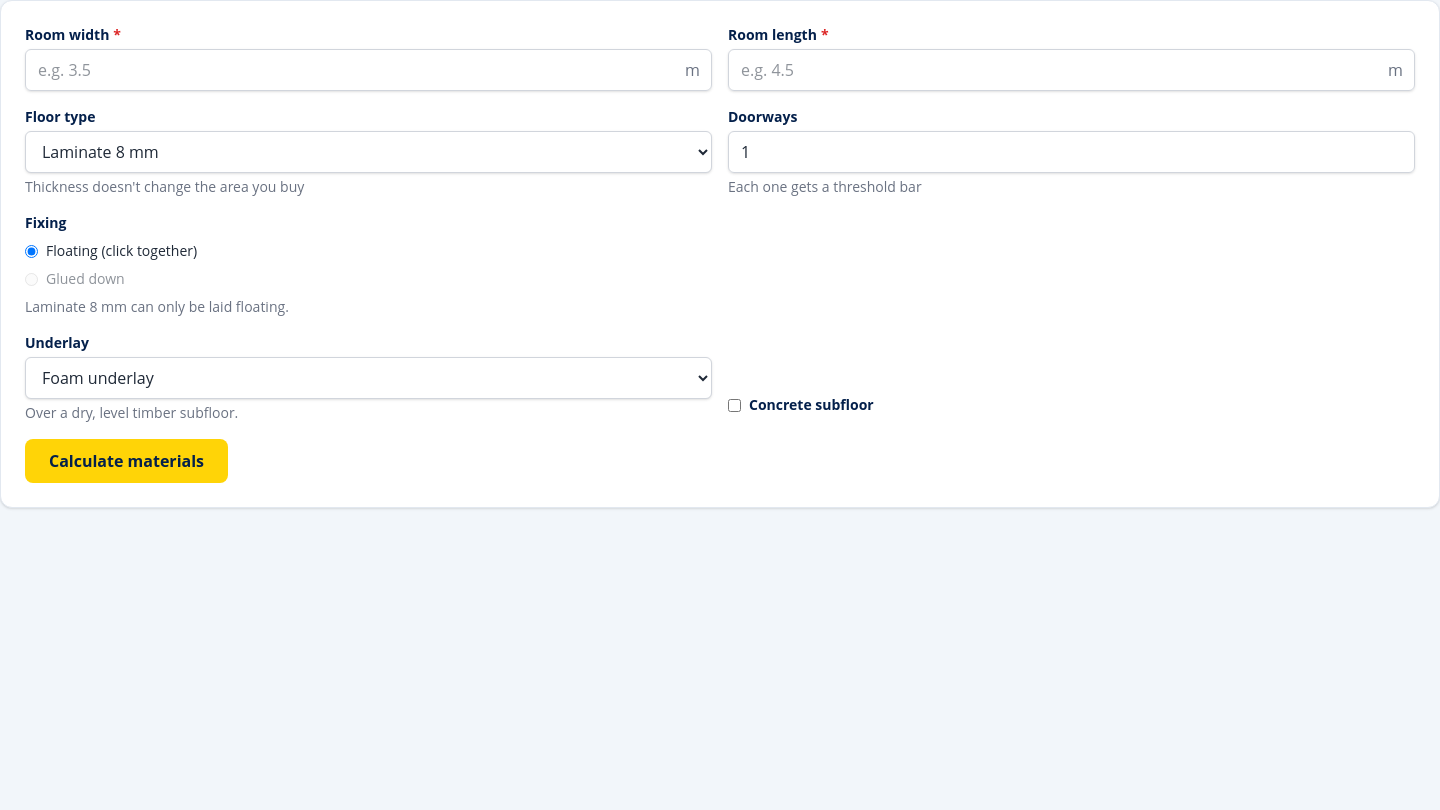
FlooringCalculator › glue-down is only offered where the trade allows it › can be selected for engineered wood, which then drops the underlay and adds adhesive
Select "Engineered wood 14 mm" in the dropdown labelled "Floor type". click: (368, 152)
box: left=25, top=131, right=712, bottom=173
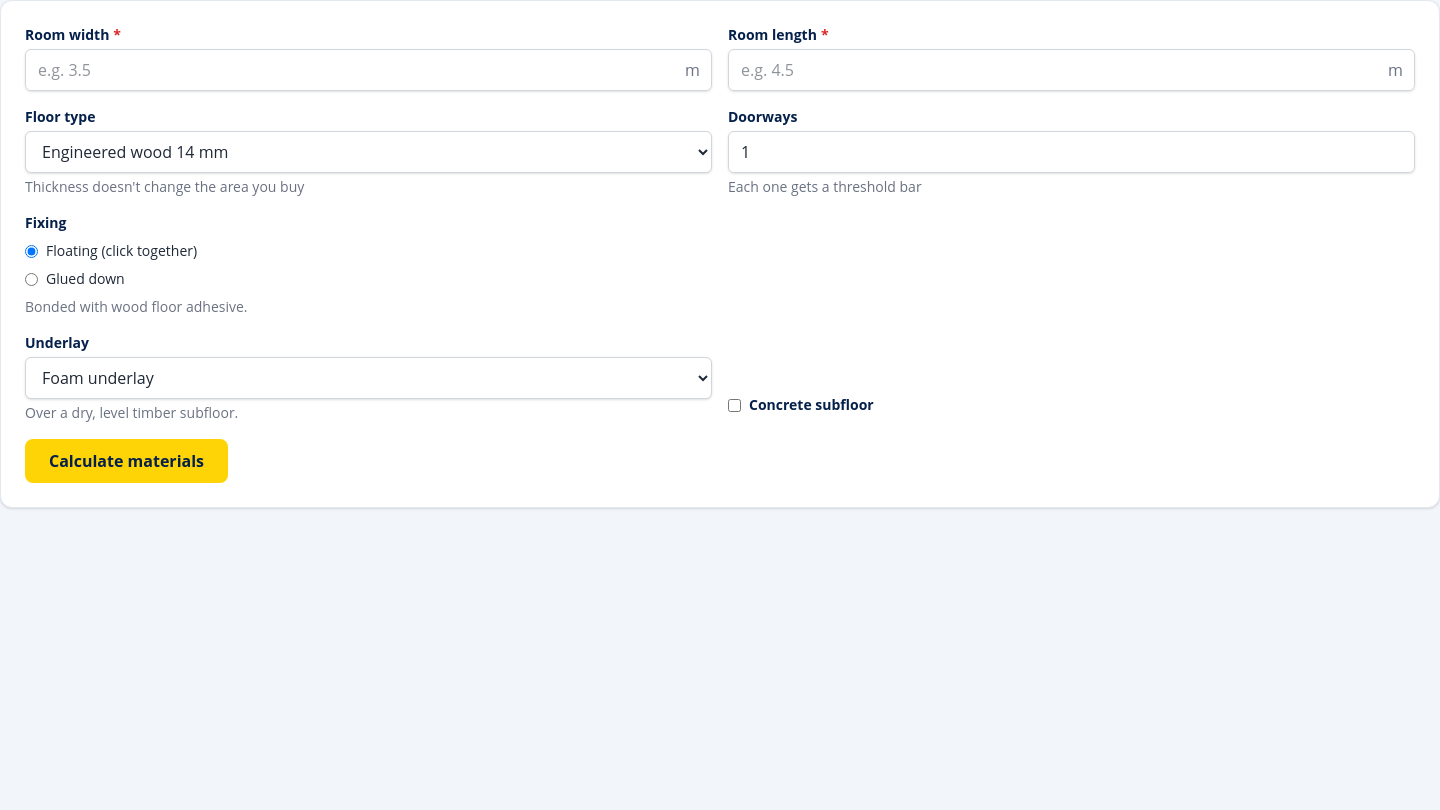
Now the radio button labelled "Glued down" is enabled
Click the radio button labelled "Glued down". click: (32, 279)
box: left=25, top=272, right=38, bottom=286
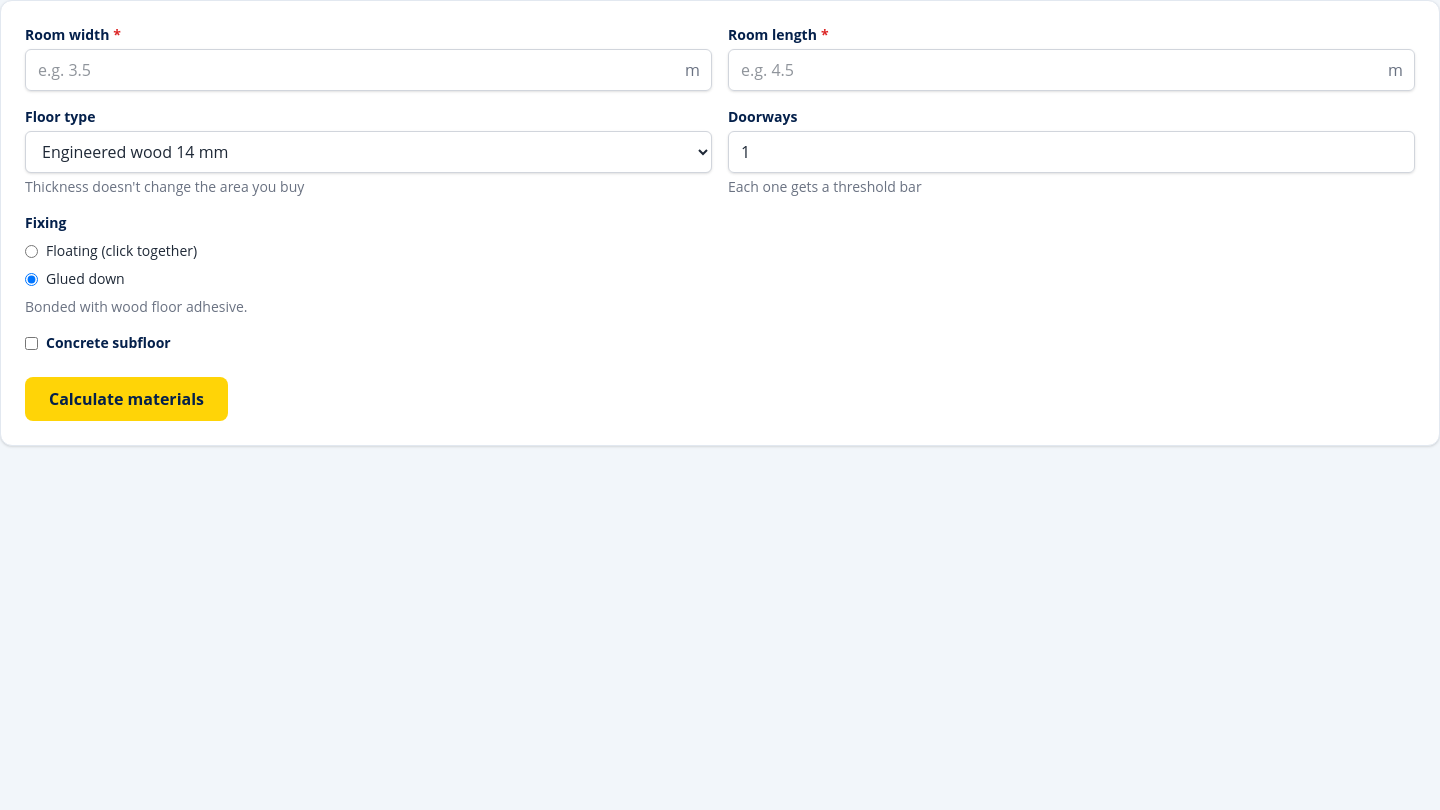
Now the label labelled "Underlay" is gone
Type "3.5" into the number field labelled "Room width*". click: (368, 70)
box: left=25, top=49, right=712, bottom=91
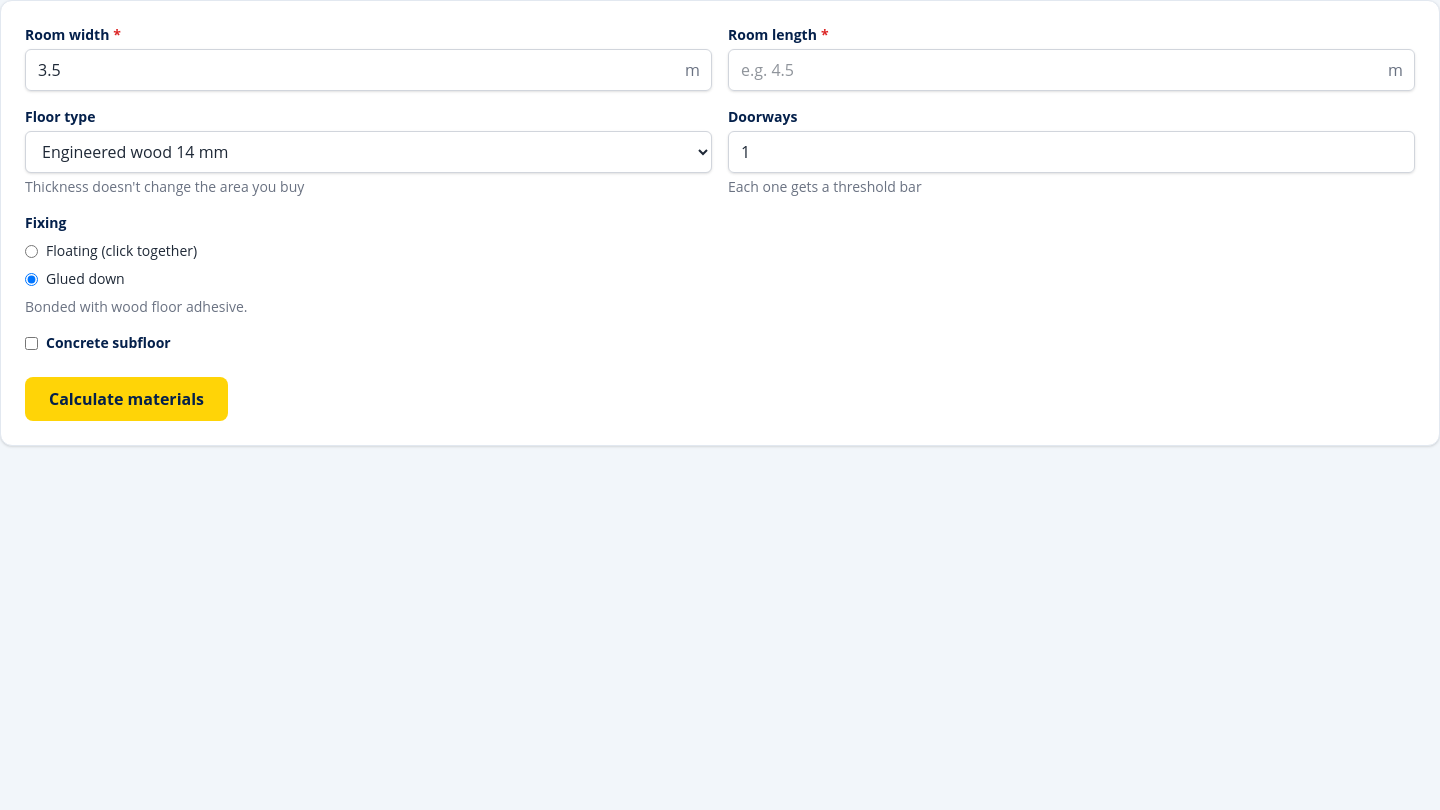
Type "4.5" into the number field labelled "Room length*". click: (1072, 70)
box: left=728, top=49, right=1415, bottom=91
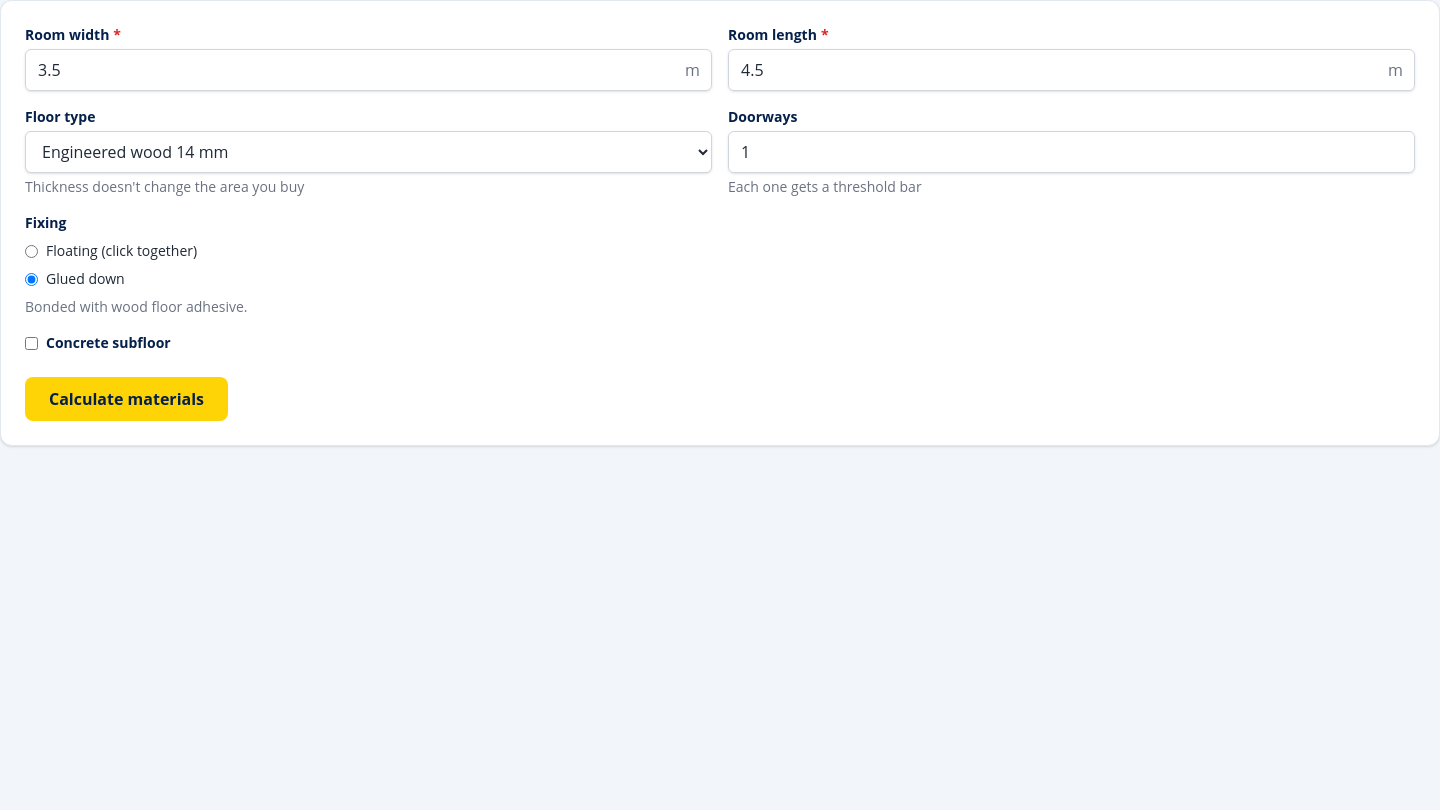
Click the button "Calculate materials". click: (126, 399)
box: left=25, top=377, right=228, bottom=421
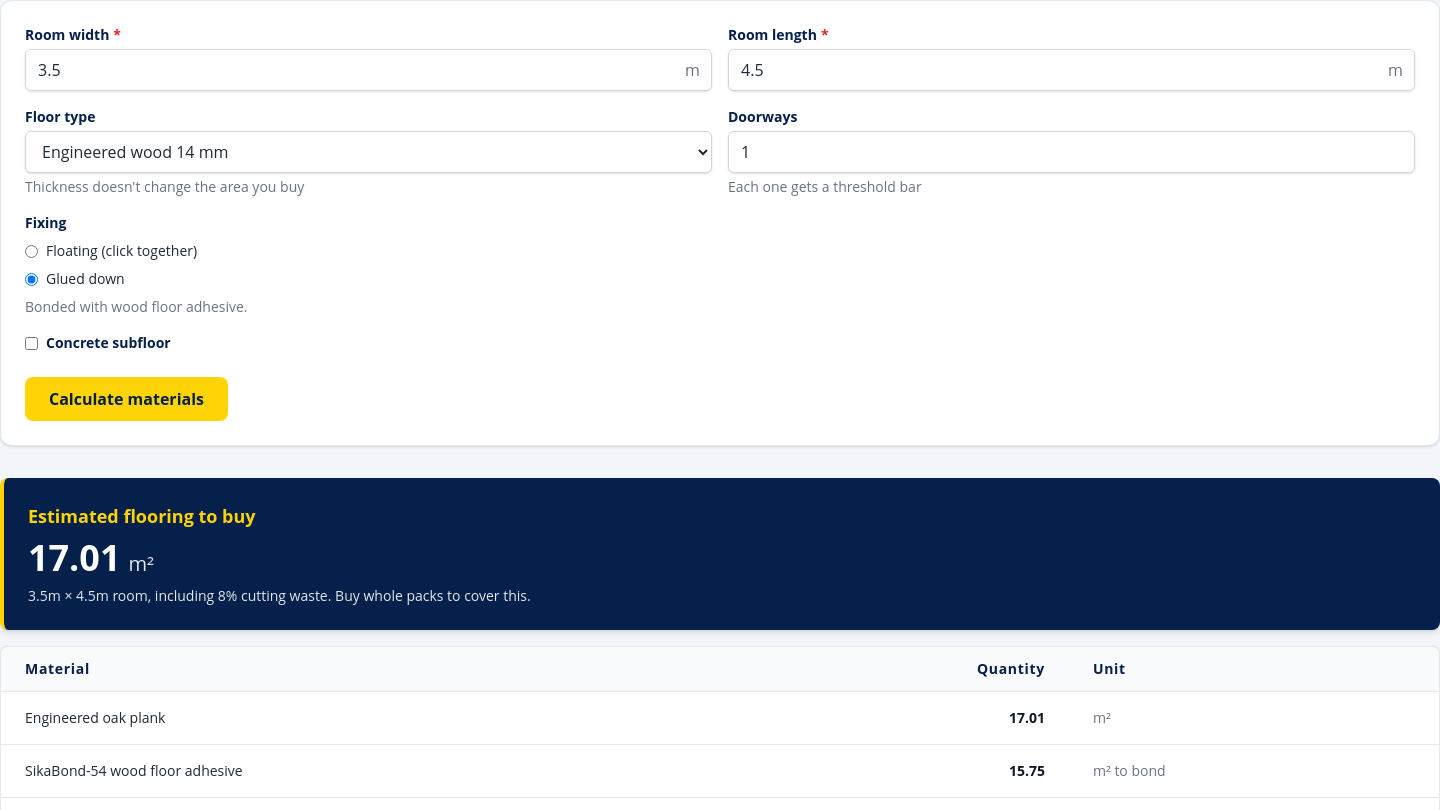
Now the row "SikaBond-54 wood floor adhesive 15.75 m² to bond" is shown, box left=1, top=744, right=1439, bottom=798
